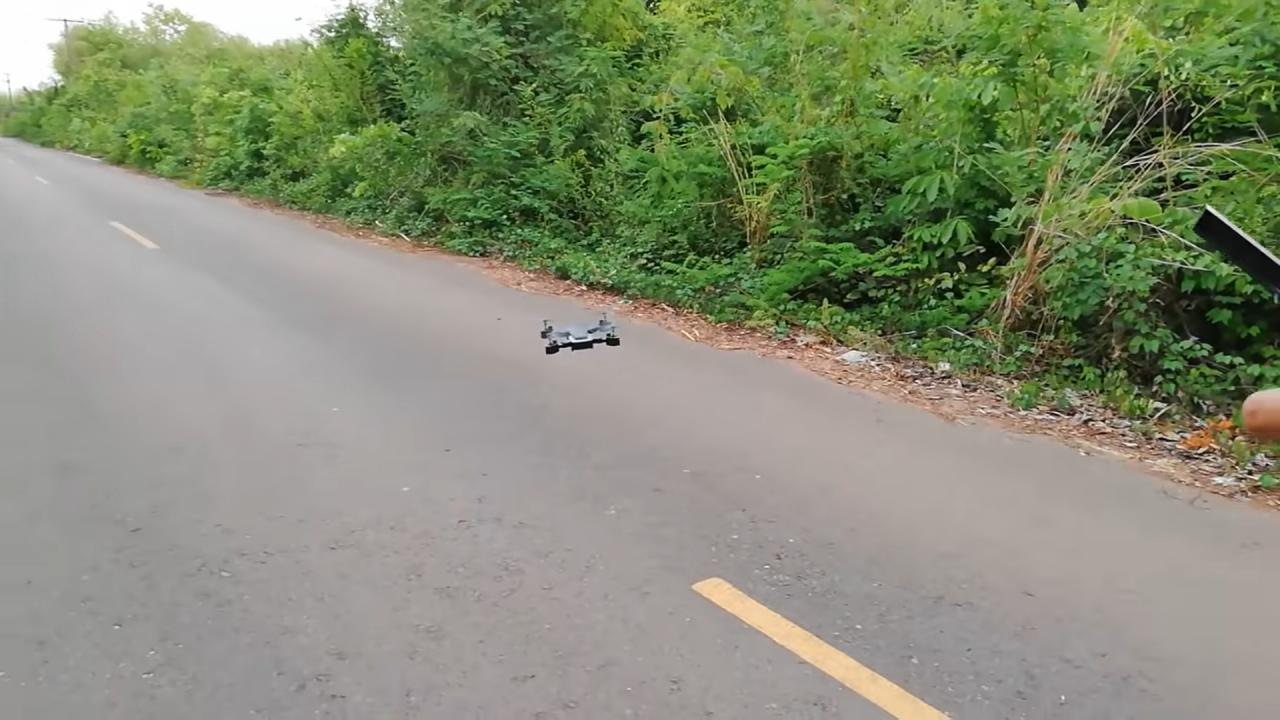Drone: (528, 307, 632, 360)
